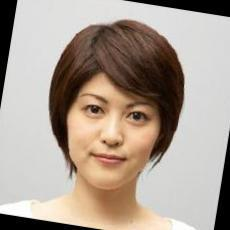Sober: (70, 79, 155, 183)
